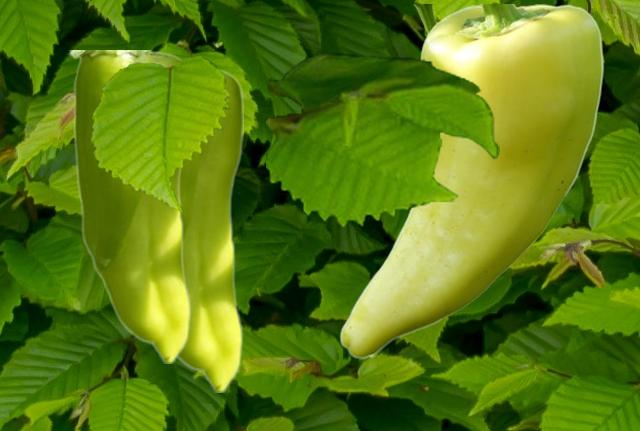green_chili: (339, 4, 603, 359), (68, 50, 190, 362), (177, 66, 242, 391)
